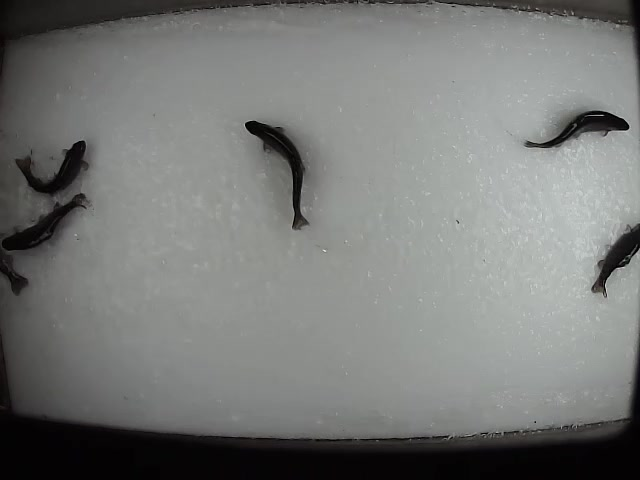fish: (240, 116, 312, 235), (1, 190, 96, 255), (12, 132, 97, 200), (521, 109, 632, 151)
